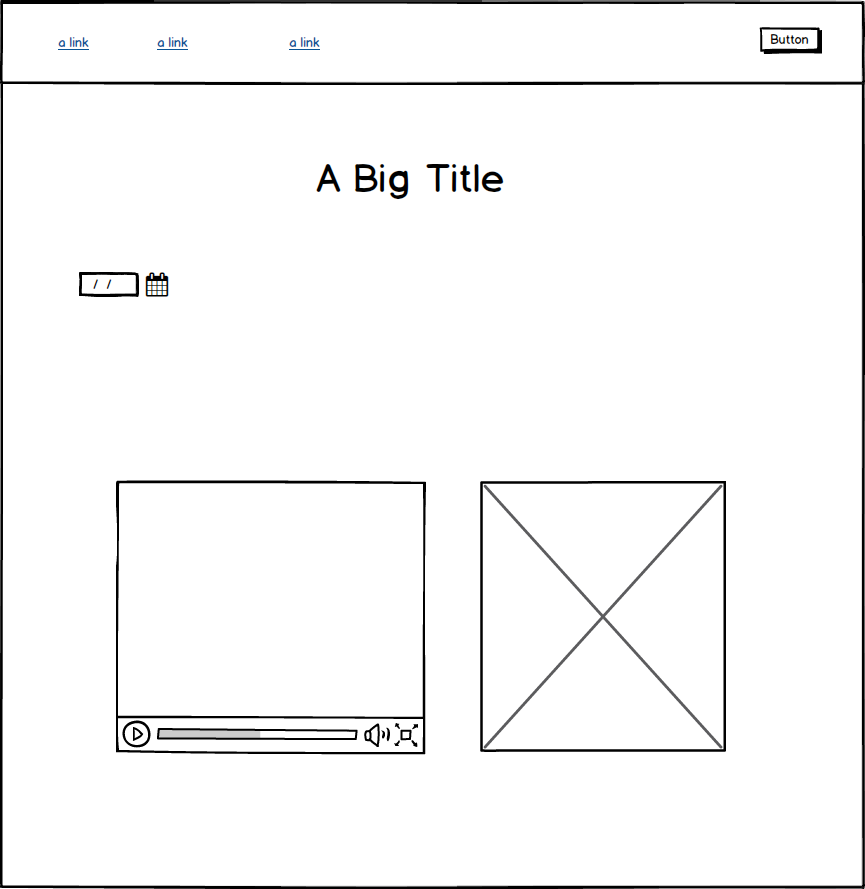button: (751, 17, 829, 61)
date_picker: (71, 263, 176, 305)
h1: (301, 146, 534, 208)
image: (474, 477, 732, 761)
navlink: (47, 28, 103, 59), (148, 27, 203, 54), (286, 28, 330, 61)
video: (110, 477, 433, 761)
